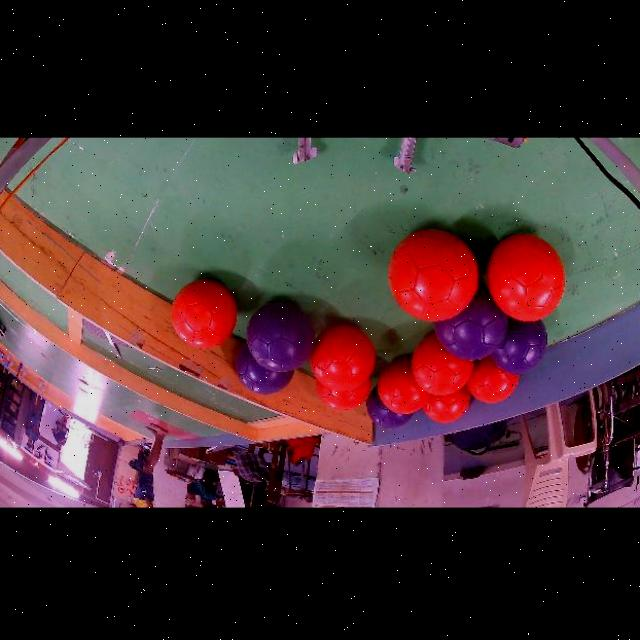P: (433, 289, 508, 361), (247, 303, 315, 374), (490, 318, 548, 375), (235, 343, 295, 395), (367, 388, 413, 430)
R: (388, 231, 477, 322), (487, 235, 565, 322), (172, 281, 237, 349), (310, 326, 376, 392), (412, 335, 473, 397), (378, 358, 431, 415), (467, 358, 520, 404), (423, 386, 471, 424), (316, 380, 370, 412)
